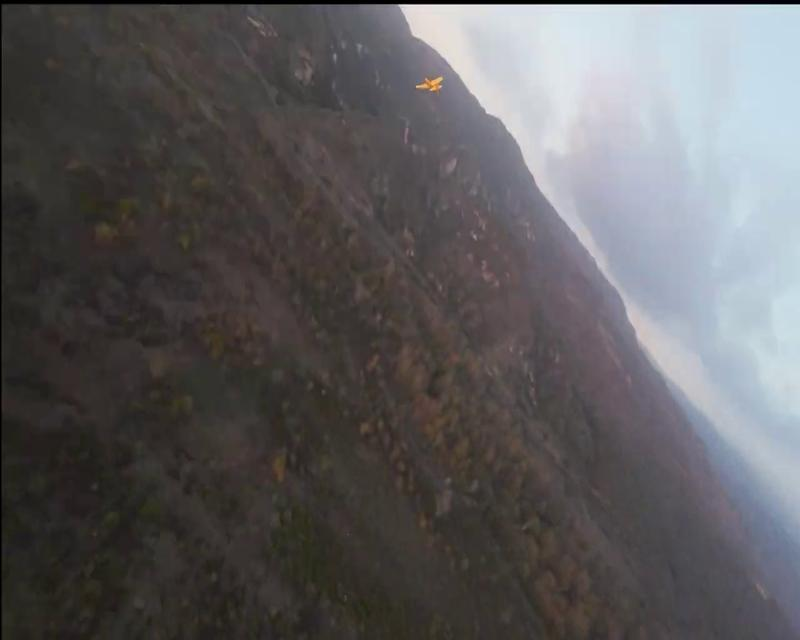UAV: (416, 76, 443, 96)
